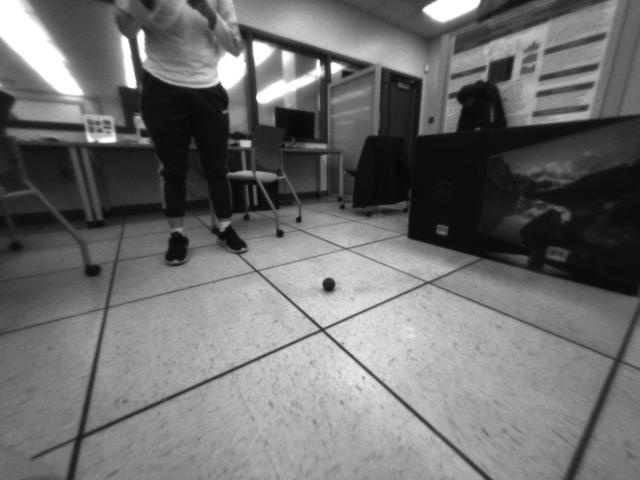dogtoy: (313, 268, 343, 297)
